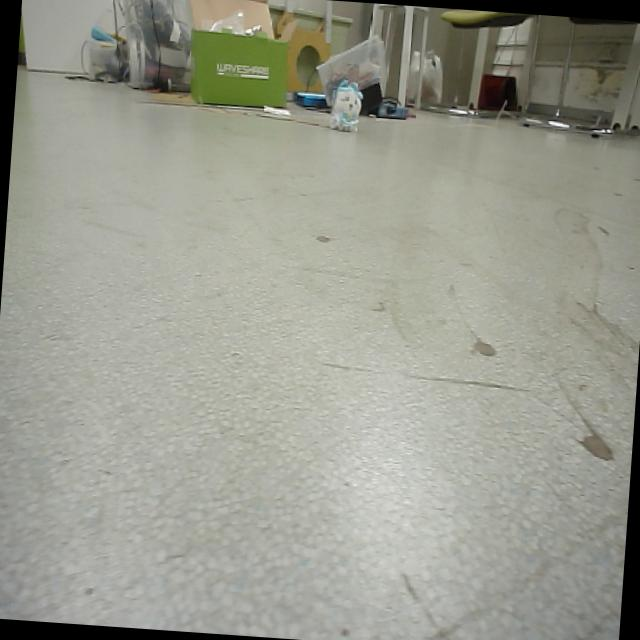xiaoba: (330, 77, 362, 136)
